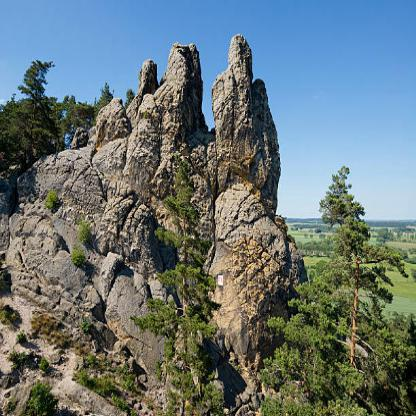Sedimentary_Sandstone: (216, 176, 280, 295), (160, 40, 204, 136), (216, 303, 258, 388), (89, 136, 134, 196), (227, 38, 256, 127), (90, 98, 134, 150)
